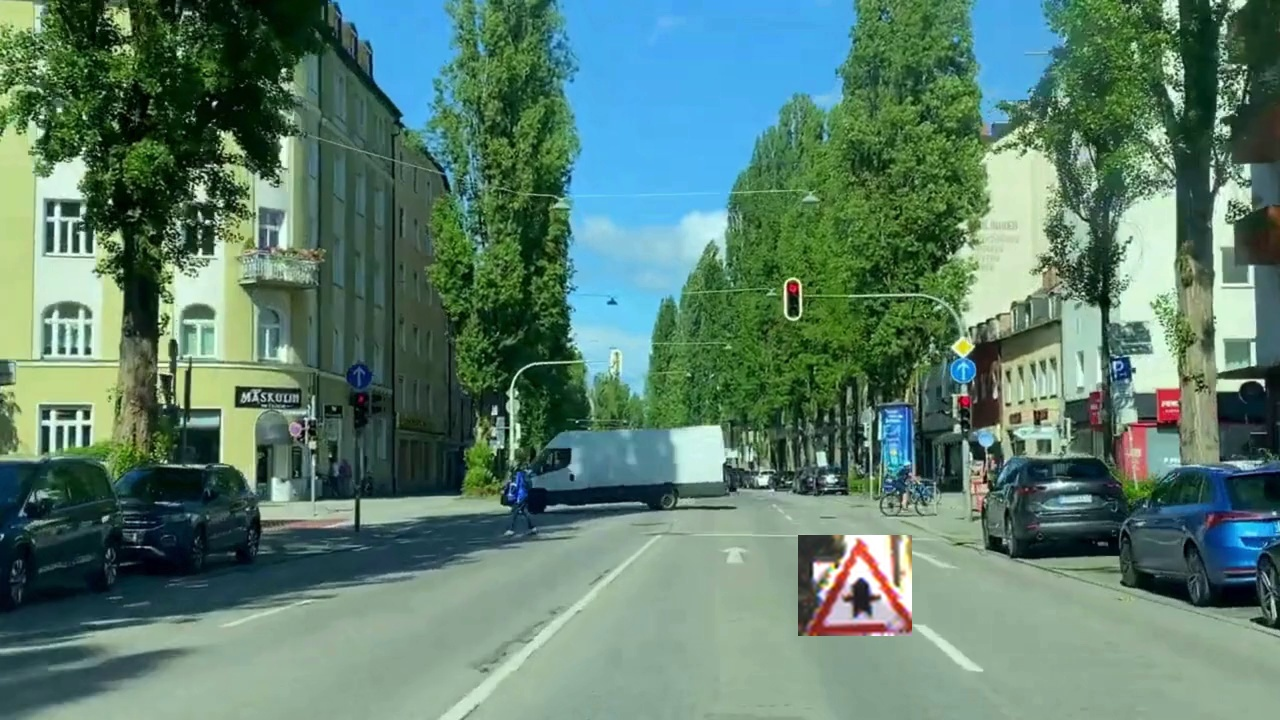Right-of-way: (798, 535, 912, 636)
